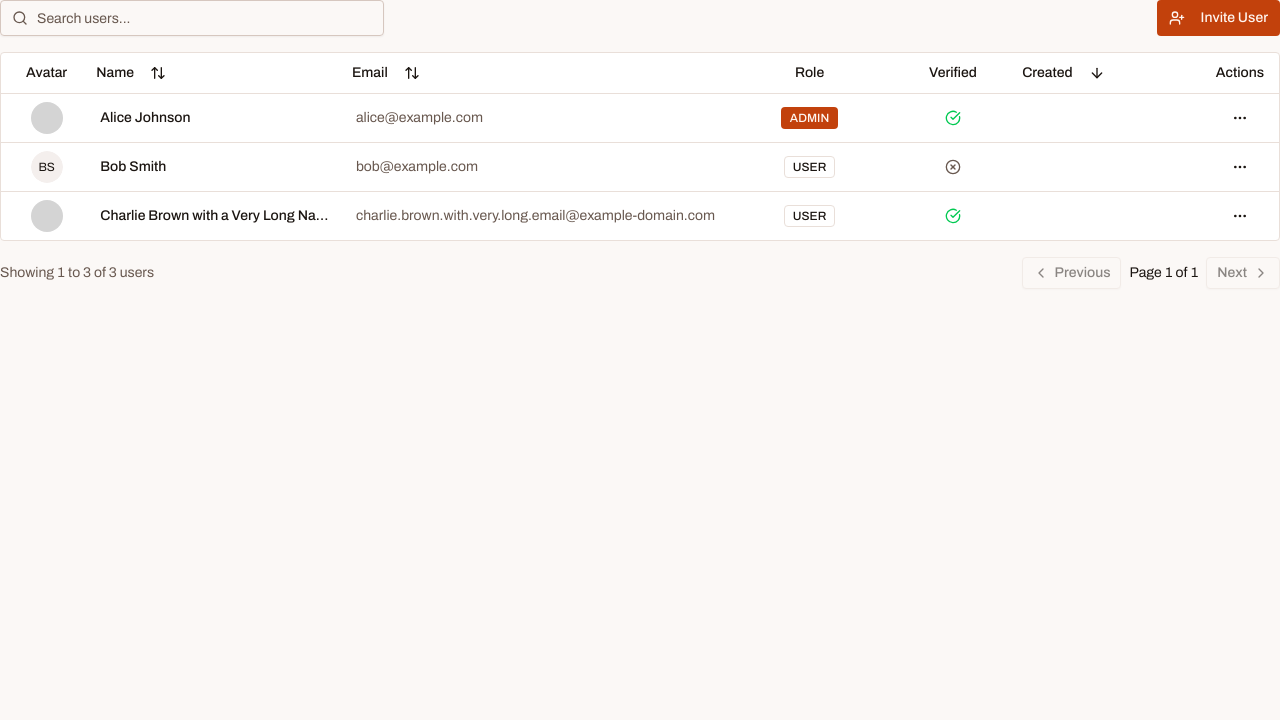
Test case: components/admin/user-table › user actions › should open delete confirmation dialog
# Open actions menu for second user (Bob, non-admin)
Click the button named "open menu" in the row of "BS": coordinates (1240, 166) [1224,150,1256,182]
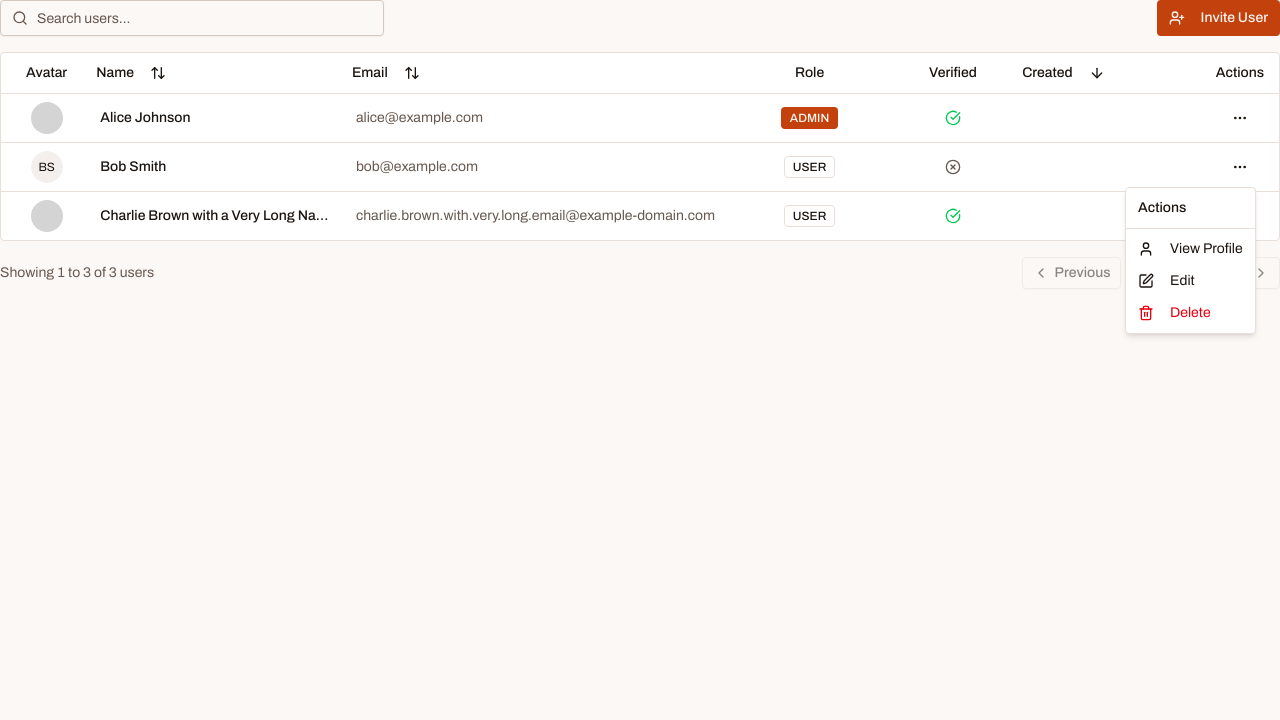
# Click delete
Click the menu item "Delete": coordinates (1174, 313) [1138,305,1211,321]
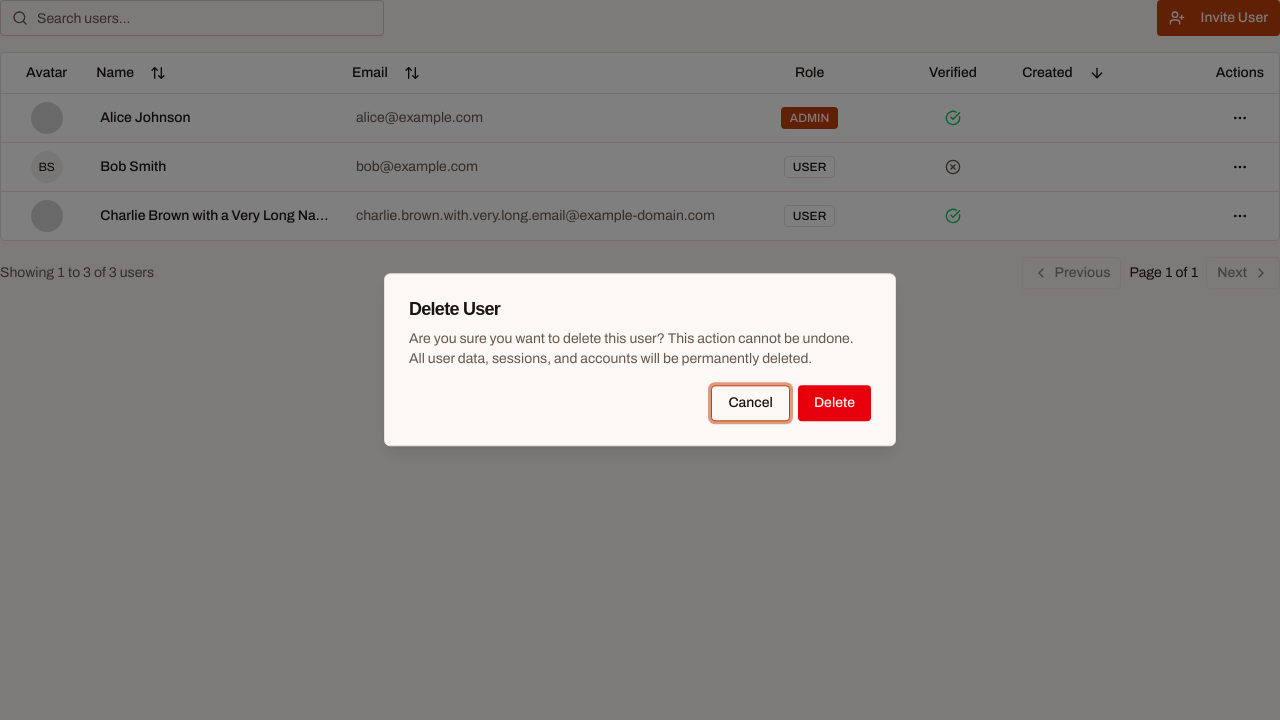
Expected: the heading "Delete User" is shown, [409,299,500,319]
Expected: the text "Are you sure you want to delete this user" is shown, [409,332,854,367]
